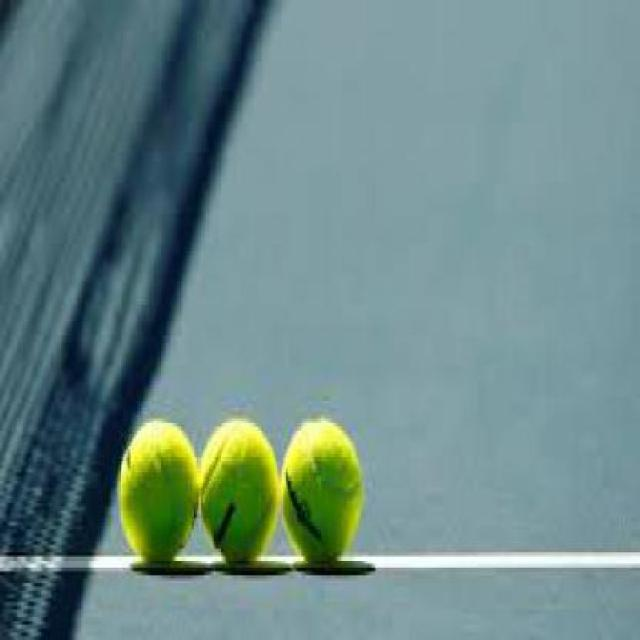Tennis_Ball: (197, 426, 275, 568), (283, 420, 355, 560), (121, 430, 192, 556)
